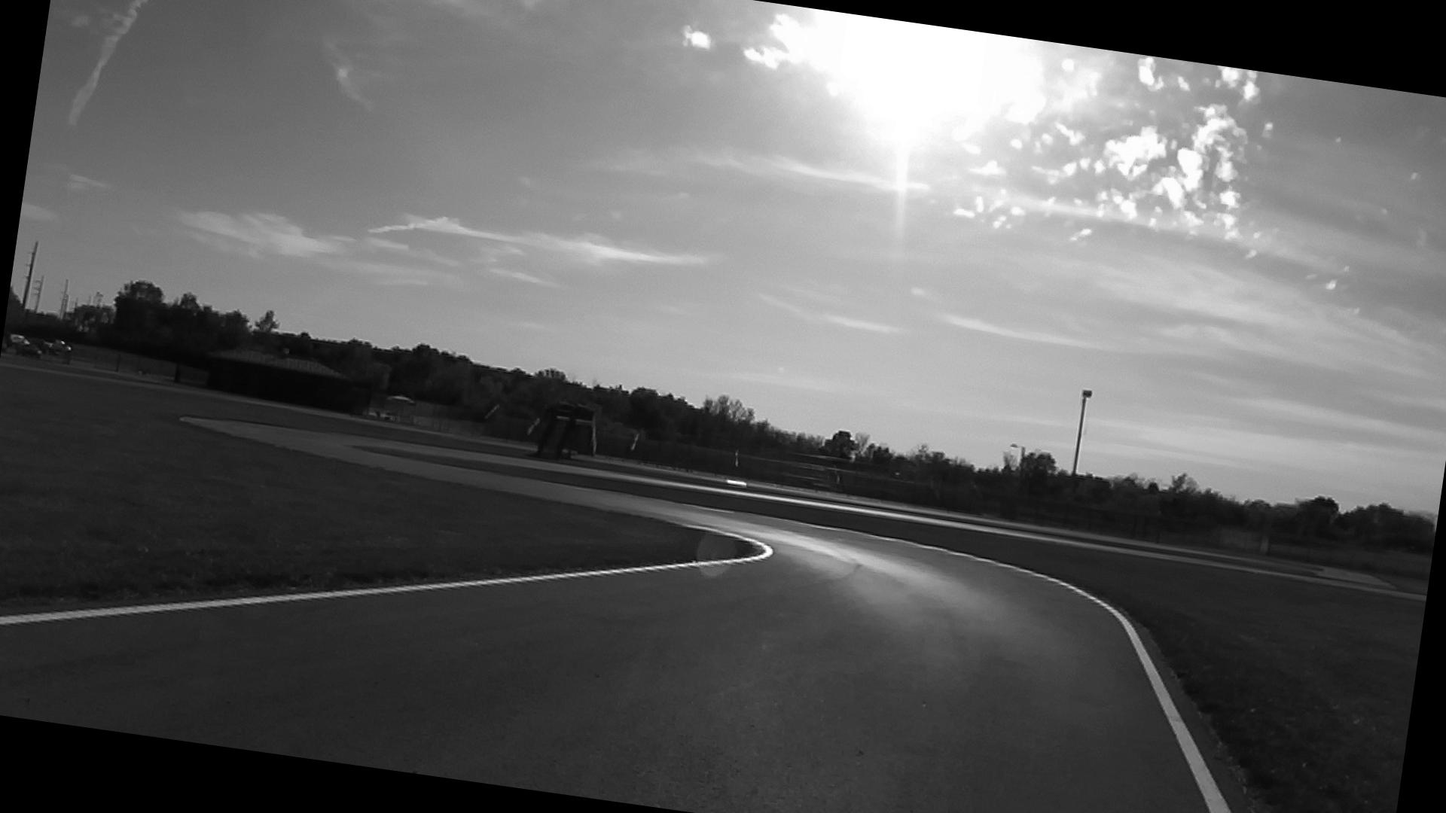white-line: (770, 518, 1232, 813), (0, 521, 773, 626)
